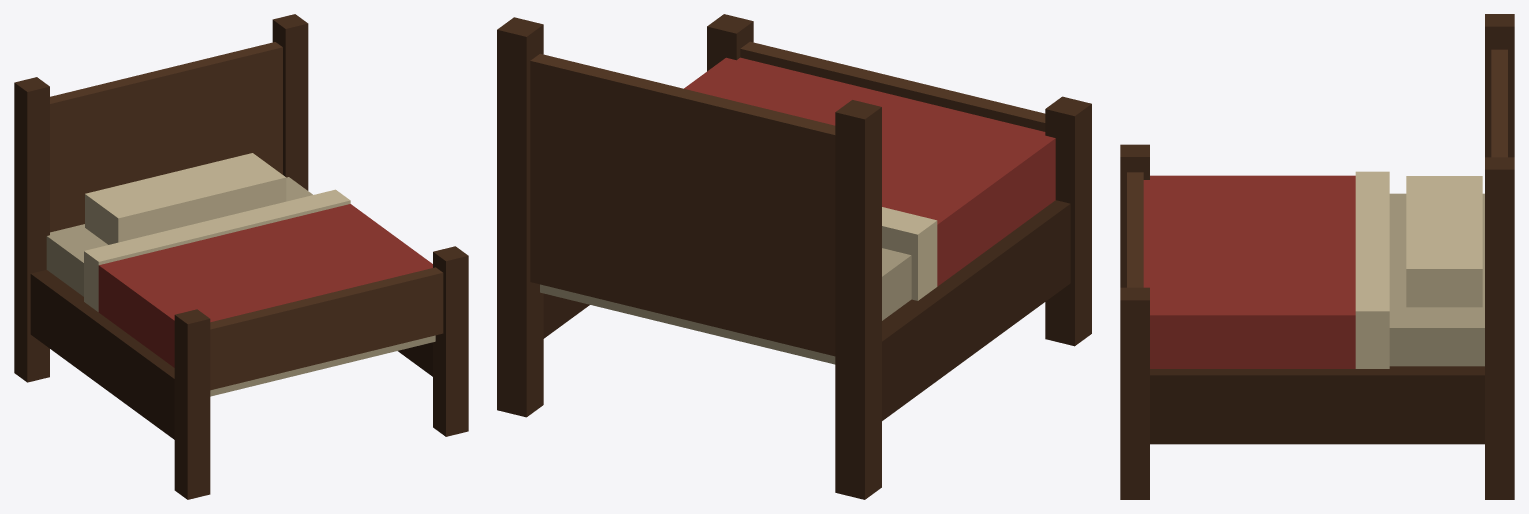
The model's file is bed.glb.
The picture shows the model from 3 angles, left to right: view 1: azimuth 30°, elevation 25°; view 2: azimuth 150°, elevation 25°; view 3: azimuth 270°, elevation 25°; orthographic projection. The views are drawn at different scales.
Visible parts, largest first — view 1: bed; view 2: bed; view 3: bed.
Part boxes in pixels (box(x1,y1,x2,y2)): bed: box(14, 14, 468, 499); bed: box(497, 14, 1091, 499); bed: box(1120, 14, 1514, 499).
Bounding box in the file's own units: 0.87 × 0.86 × 0.93.
